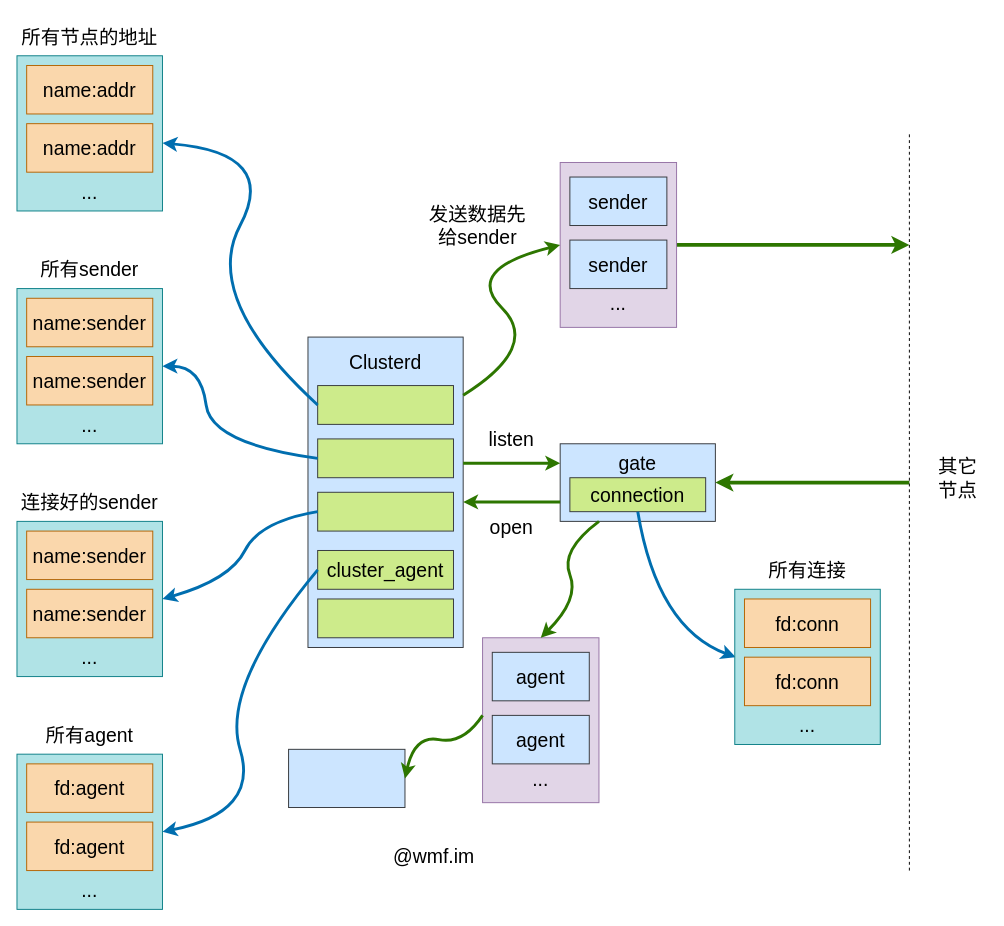
Some shapes in this 1004 by 926 pixel diagram are drawn without their labels. The centre of each missing label's shape, as x and y in pixels:
"node_address" goes at point (385, 404).
"node_channel" goes at point (385, 511).
"node_sender" goes at point (385, 458).
"register_name" goes at point (385, 618).
"目标服务" goes at point (346, 778).
